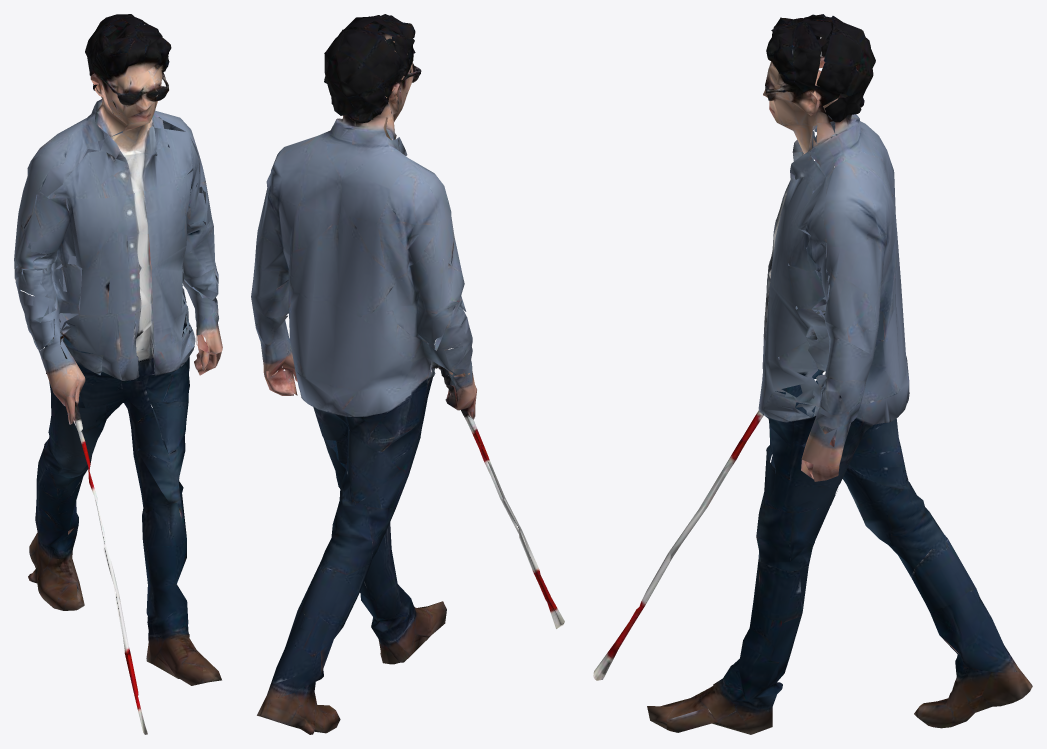
File: ppl_cane.glb
The picture shows the model from 3 angles, left to right: view 1: azimuth 30°, elevation 25°; view 2: azimuth 150°, elevation 25°; view 3: azimuth 270°, elevation 25°; orthographic projection. The views are drawn at different scales.
Parts seen in each view (by area): view 1: Object_5, Object_6, Object_7; view 2: Object_6, Object_5, Object_7; view 3: Object_6, Object_5, Object_7.
Boxes of the visible parts, x1=… form: Object_5: x1=14, y1=16, x2=221, y2=734; Object_6: x1=14, y1=14, x2=222, y2=610; Object_7: x1=26, y1=18, x2=218, y2=414; Object_6: x1=251, y1=27, x2=468, y2=734; Object_5: x1=268, y1=14, x2=564, y2=664; Object_7: x1=336, y1=23, x2=472, y2=488; Object_6: x1=763, y1=14, x2=1032, y2=728; Object_5: x1=593, y1=17, x2=839, y2=734; Object_7: x1=802, y1=16, x2=836, y2=546.
Size of the model in its own units: 0.623 by 1.89 by 1.07.
1 material, 1 textured.
